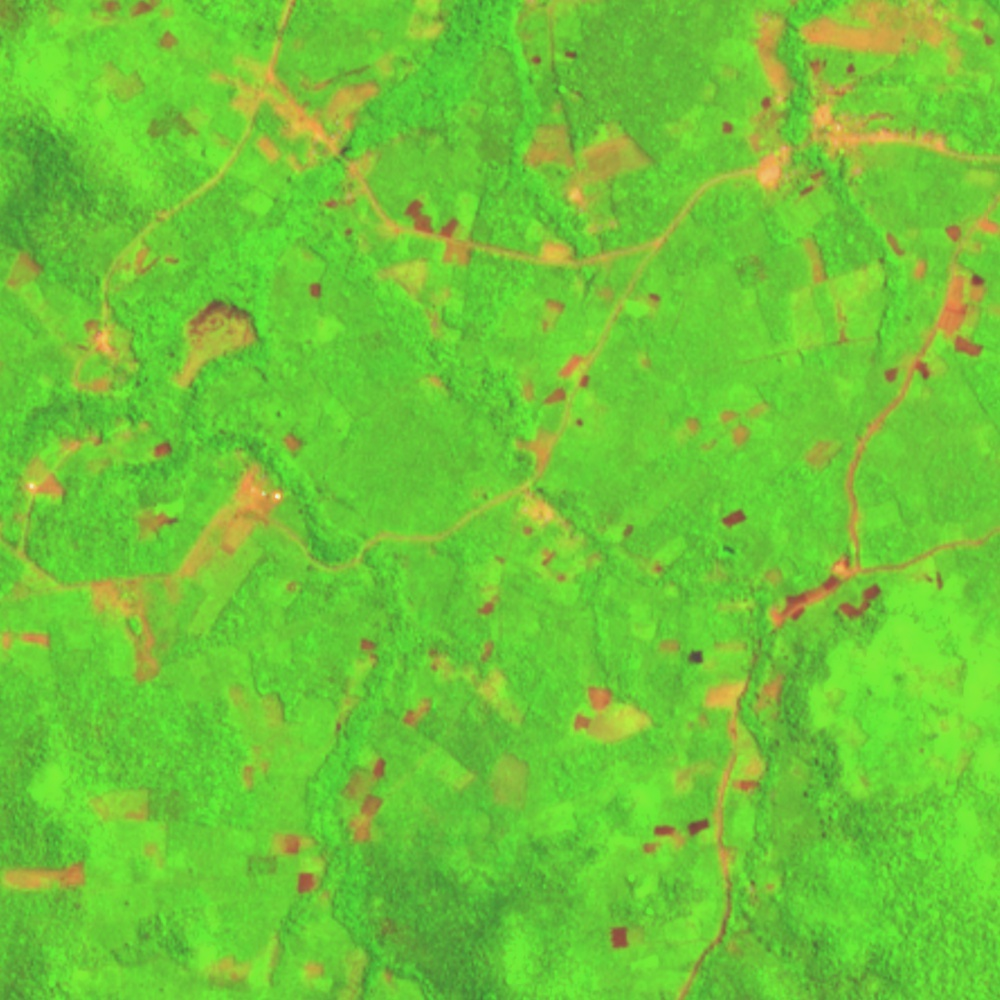legal: (718, 1, 1000, 201), (209, 51, 385, 209), (729, 231, 897, 365), (880, 199, 1000, 385), (168, 430, 305, 587), (8, 250, 145, 404), (424, 548, 528, 732), (73, 1, 199, 141), (521, 116, 657, 241), (671, 673, 792, 806), (201, 928, 393, 1000), (375, 254, 463, 392), (510, 350, 601, 479), (749, 551, 884, 631), (502, 490, 609, 586), (306, 635, 386, 761), (164, 298, 264, 392), (79, 581, 170, 682), (223, 680, 297, 795), (719, 813, 778, 955), (530, 281, 666, 339), (331, 750, 391, 857), (245, 829, 331, 898), (297, 238, 349, 342), (503, 1, 583, 67), (408, 193, 489, 258), (681, 399, 772, 456), (572, 684, 658, 743), (614, 517, 674, 584), (1, 859, 87, 895), (112, 242, 185, 283), (642, 814, 711, 857), (489, 751, 535, 813), (15, 459, 71, 505), (87, 785, 156, 821), (124, 502, 181, 543), (1, 616, 52, 656), (406, 1, 450, 43), (607, 919, 652, 953), (52, 433, 114, 456), (804, 436, 846, 469), (402, 697, 439, 730), (905, 567, 950, 593), (539, 244, 583, 267), (718, 505, 751, 532), (144, 437, 178, 463), (635, 347, 660, 371)
